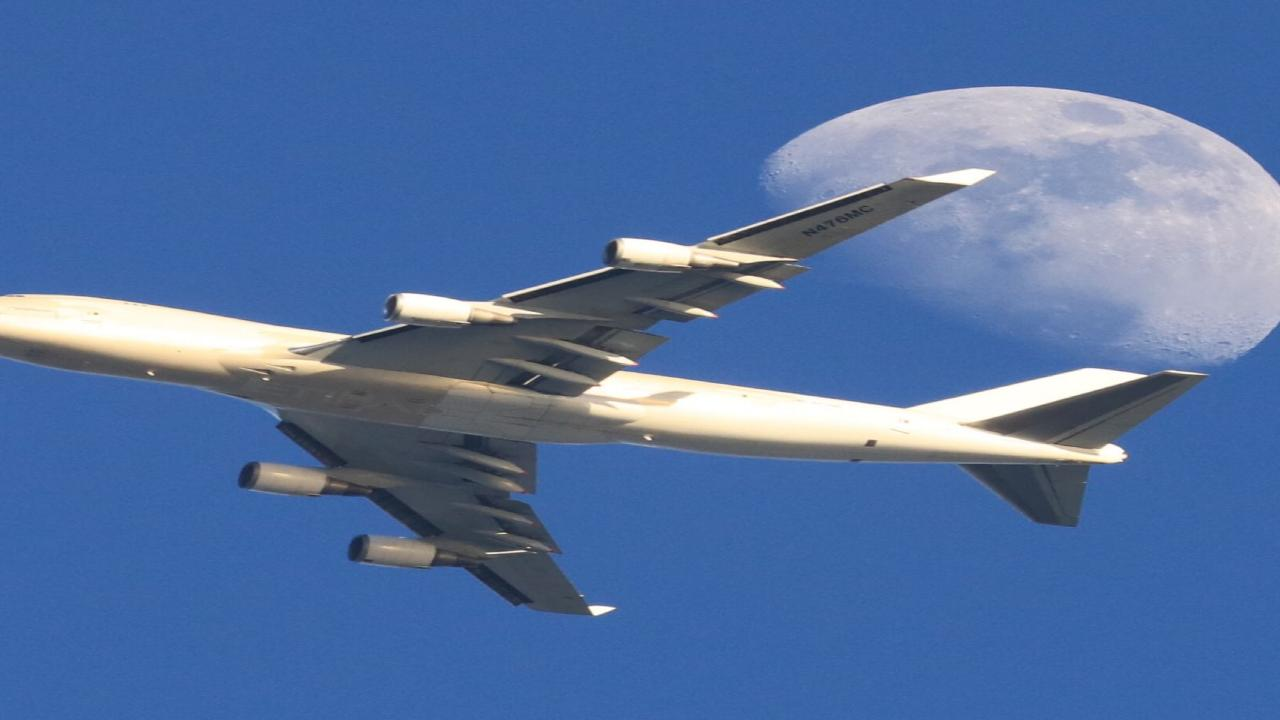Airplane: (0, 154, 1224, 625)
